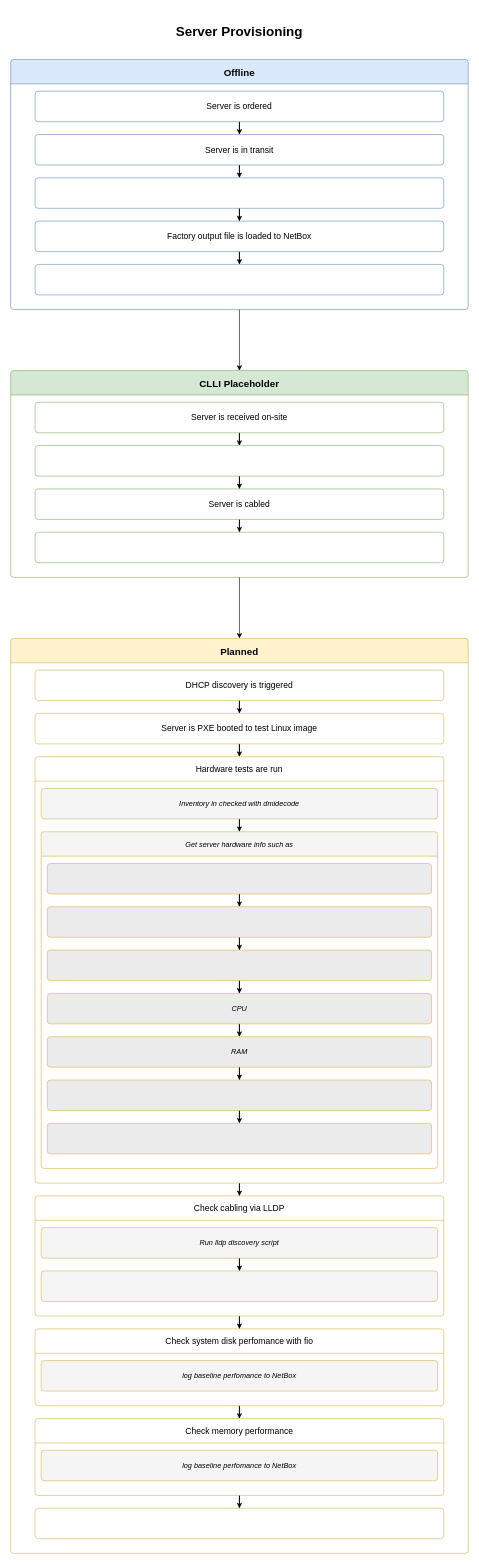
Image size: 479x1564. Some labels were removed from this diagram. Here are the shapes that lost their labels. From the top down, the centre of each, then its label:
At point 239,192: "Server is received and GRd".
At point 239,279: "Server is assigned to tenant or baremetal-reserve tenant".
At point 239,460: "Server is racked".
At point 239,547: "Server is powered on".
At point 239,878: "Serial".
At point 239,921: "Model".
At point 239,965: "Vendor".
At point 239,1095: "DISK".
At point 239,1138: "Network cards".
At point 239,1285: "Check".
At point 239,1523: "Update NetBox with found information".
